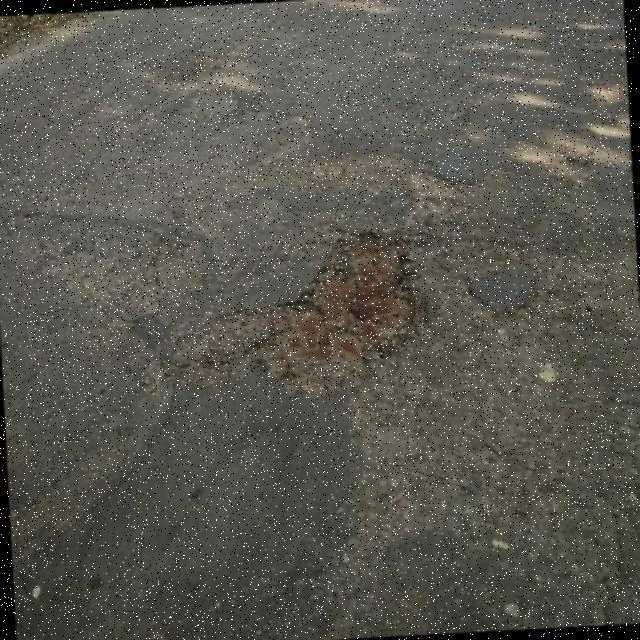Pothole: (163, 230, 432, 396)
